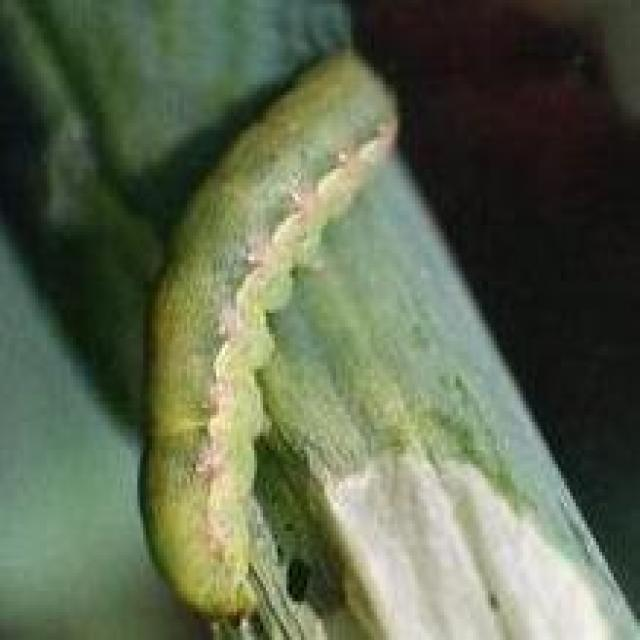BeetArmyWorm-Larva-: (130, 42, 407, 626)
